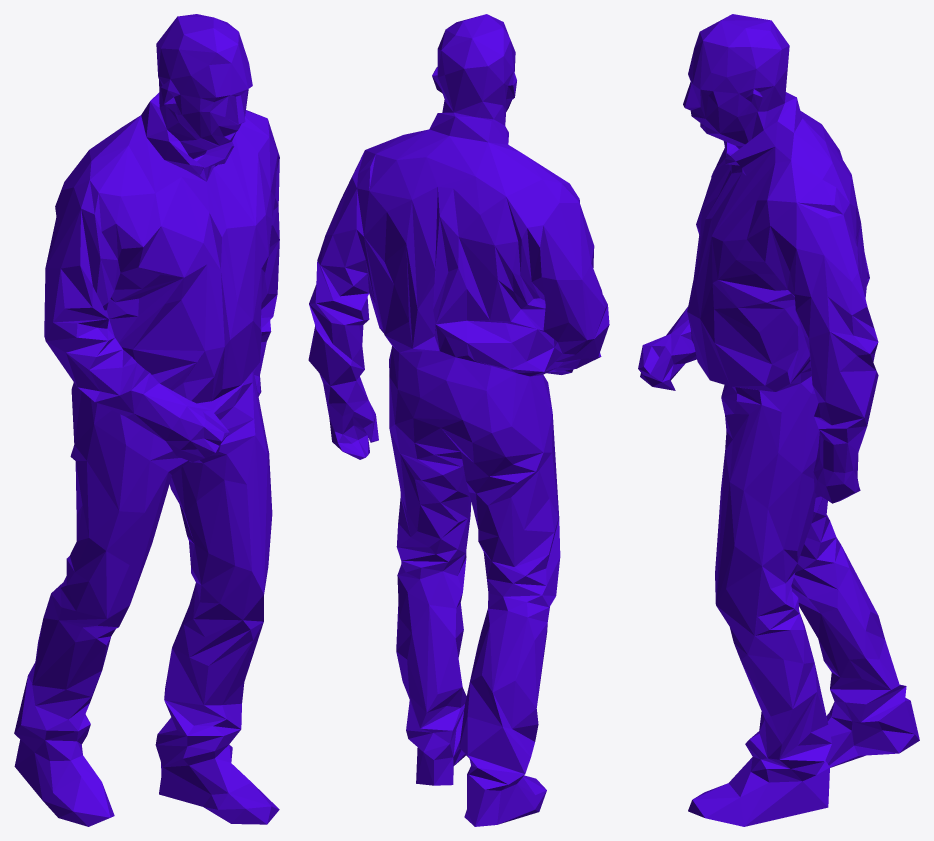
The model's file is per3.fbx.
The picture shows the model from 3 angles, left to right: view 1: azimuth 30°, elevation 25°; view 2: azimuth 150°, elevation 25°; view 3: azimuth 270°, elevation 25°; orthographic projection. The views are drawn at different scales.
Visible parts, largest first — view 1: lowpolyCharacterBorder_147; view 2: lowpolyCharacterBorder_147; view 3: lowpolyCharacterBorder_147.
Boxes of the visible parts, x1,y1,x2,y2 form: lowpolyCharacterBorder_147: (14,14,279,826); lowpolyCharacterBorder_147: (308,14,609,826); lowpolyCharacterBorder_147: (638,14,919,826).
Bounding box in the file's own units: 58.35 × 168 × 55.08.
